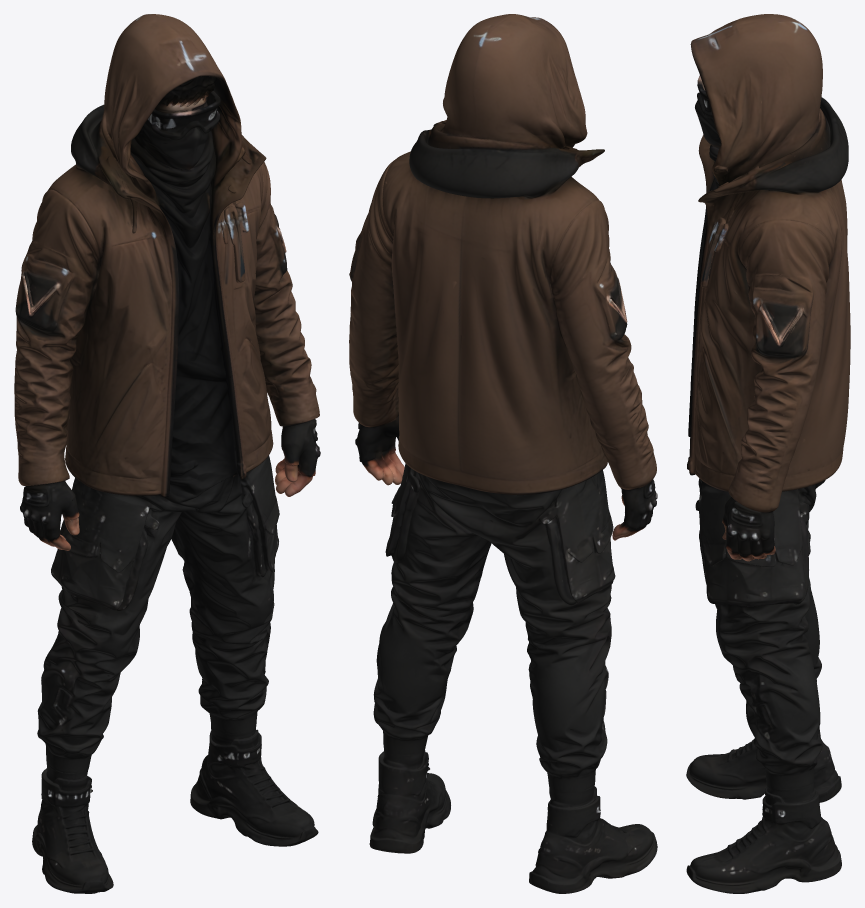
3 renders of one model, left to right at view 1: azimuth 30°, elevation 25°; view 2: azimuth 150°, elevation 25°; view 3: azimuth 270°, elevation 25°, orthographic.
Parts seen in each view (by area): view 1: material; view 2: material; view 3: material.
Boxes of the visible parts, box(x1,y1,x2,y2) form: material: box(14, 14, 320, 893); material: box(349, 14, 657, 893); material: box(686, 14, 850, 893).
Bounding box in the file's own units: 0.4286 × 1.15 × 0.209.
1 material, 1 textured.
